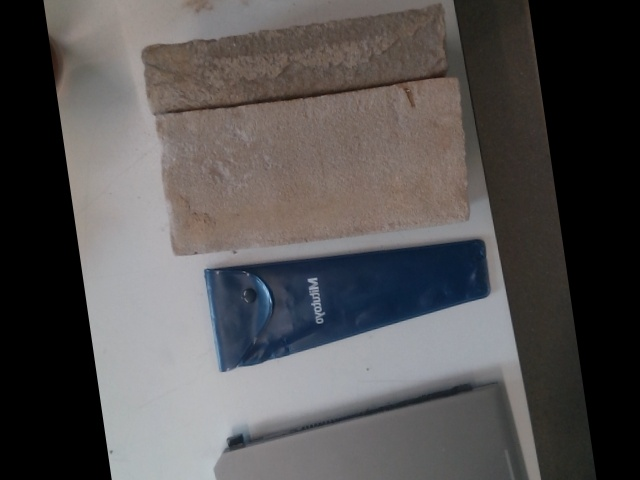brick: (161, 75, 471, 257)
